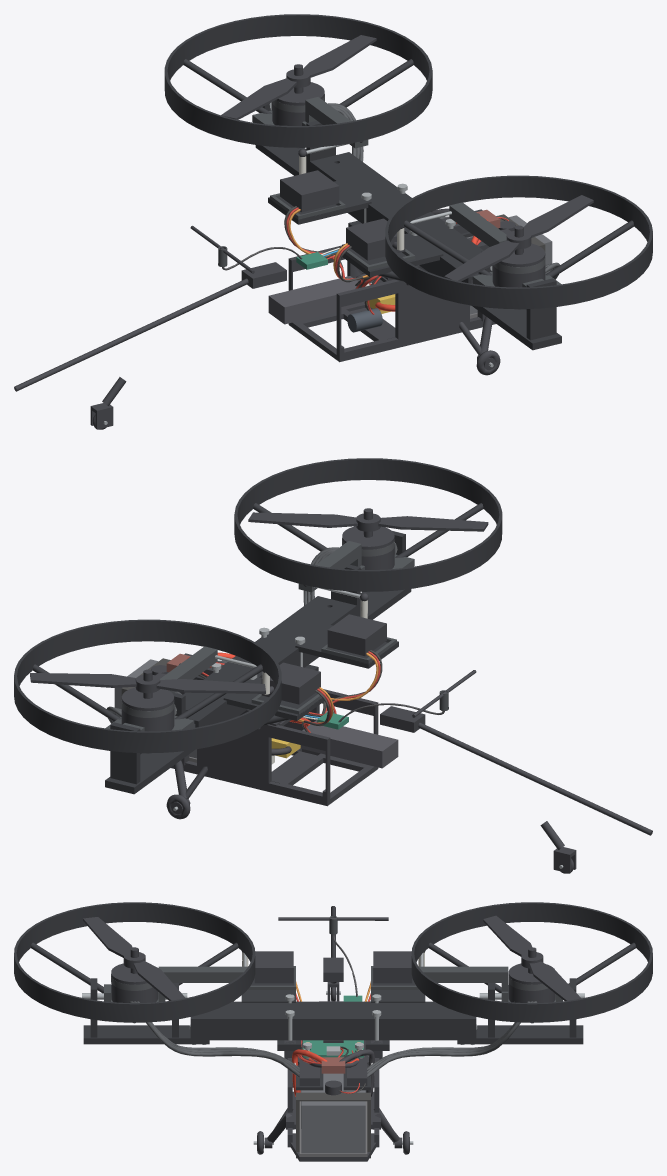
Rendered from kestrel.glb.
3 renders of one model, top to bottom at view 1: azimuth 30°, elevation 25°; view 2: azimuth 150°, elevation 25°; view 3: azimuth 270°, elevation 25°, orthographic. The views are drawn at different scales.
Size of the model in its own units: 0.3193 by 0.1217 by 0.3761.
1 material, 1 textured.
